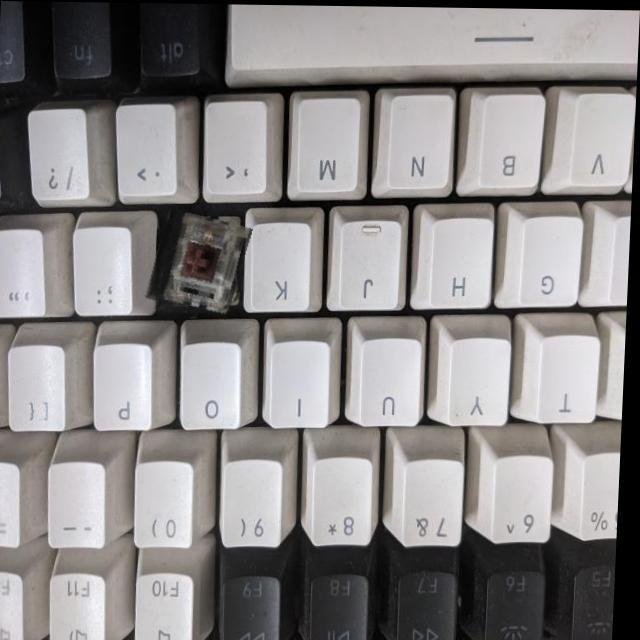key-switch: (150, 209, 250, 313)
